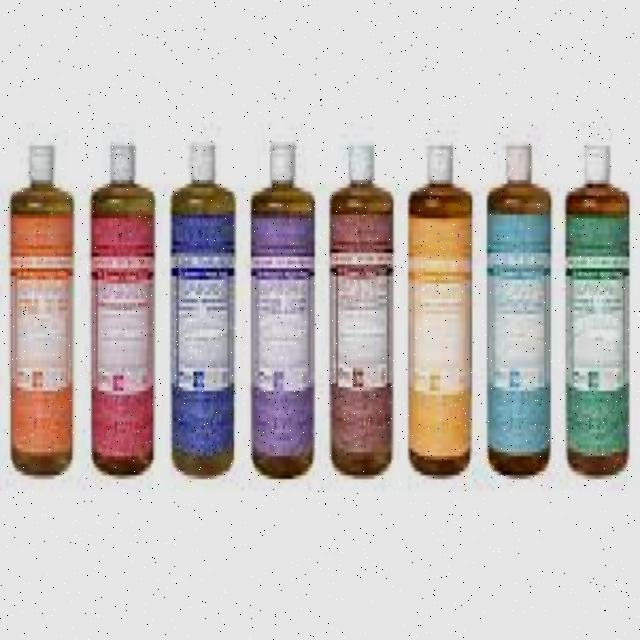liquid soap: (84, 129, 167, 490), (396, 134, 480, 490), (244, 134, 324, 496), (6, 123, 81, 496), (323, 134, 398, 485), (562, 134, 634, 490), (169, 140, 240, 496), (488, 137, 554, 484)
